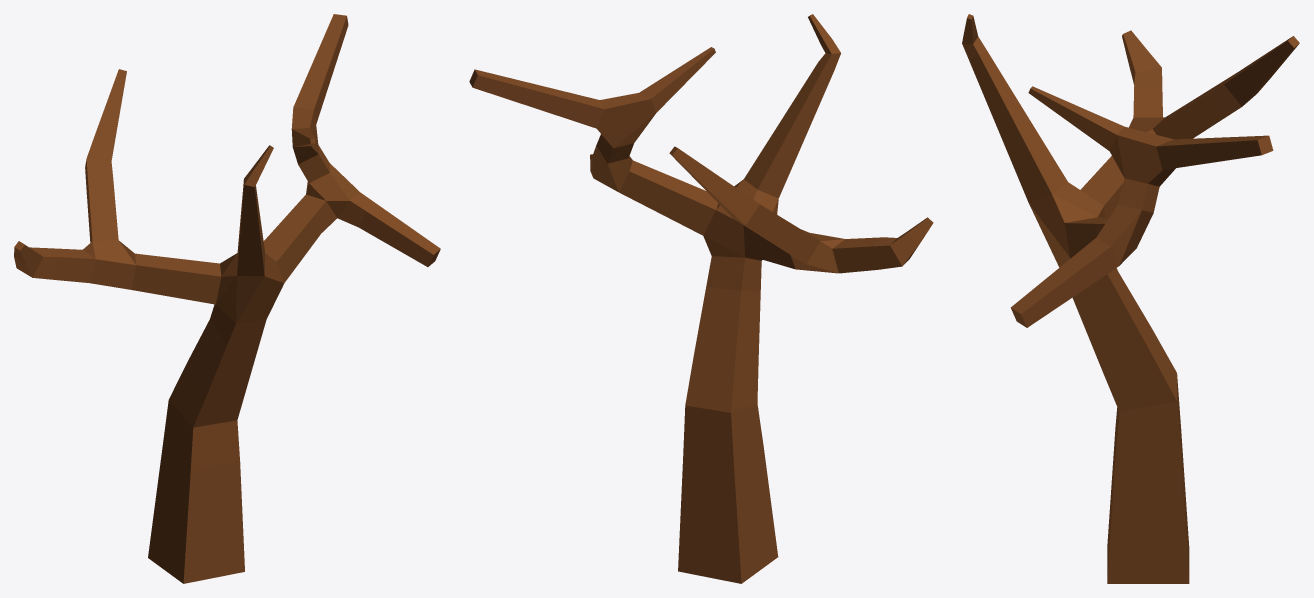
3 views of the same model, side by side, from view 1: azimuth 30°, elevation 25°; view 2: azimuth 150°, elevation 25°; view 3: azimuth 270°, elevation 25° (orthographic). The views are drawn at different scales.
Visible parts, largest first — view 1: 큐브.003; view 2: 큐브.003; view 3: 큐브.003.
Part boxes in pixels (x1,y1,x2,y2): 큐브.003: [14, 14, 440, 583]; 큐브.003: [469, 14, 933, 583]; 큐브.003: [962, 14, 1299, 583].
Bounding box in the file's own units: 1634 × 1908 × 1062.
